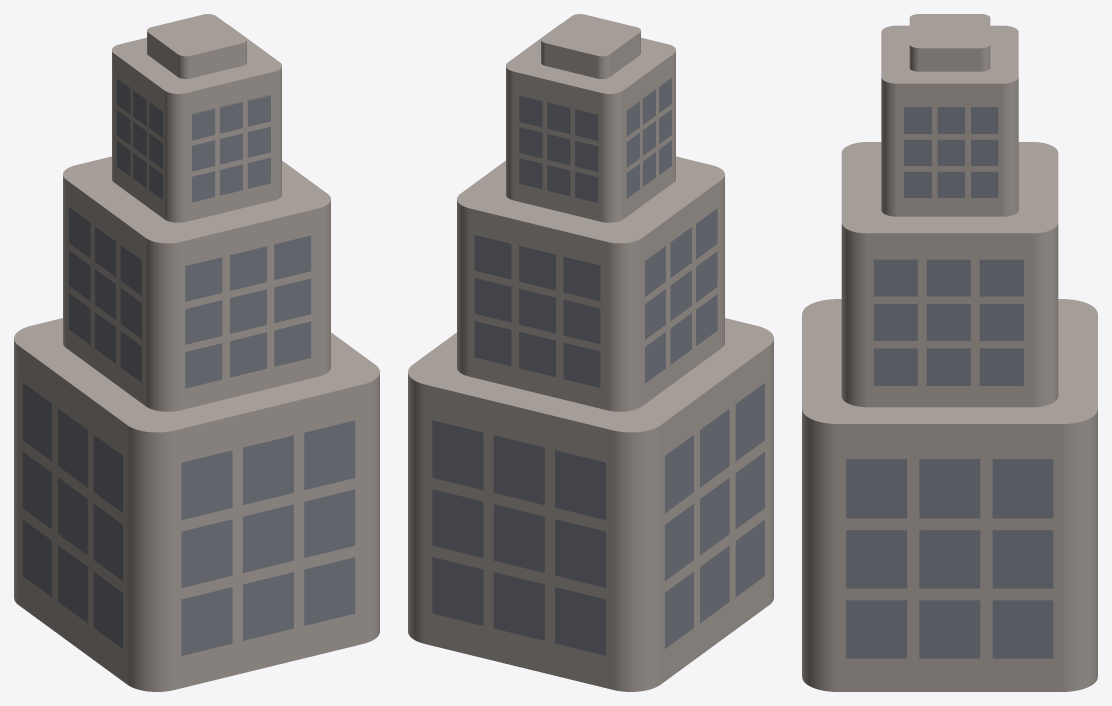
File: Building1.fbx
3 renders of one model, left to right at view 1: azimuth 30°, elevation 25°; view 2: azimuth 150°, elevation 25°; view 3: azimuth 270°, elevation 25°, orthographic. The views are drawn at different scales.
Visible parts, largest first — view 1: b1.001, b1.002, b1.003, b1.004; view 2: b1.001, b1.002, b1.003, b1.004; view 3: b1.001, b1.002, b1.003, b1.004.
Boxes of the visible parts, <box> form: b1.001: <box>14,318,379,691</box>; b1.002: <box>63,156,330,411</box>; b1.003: <box>112,24,281,222</box>; b1.004: <box>147,14,246,78</box>; b1.001: <box>408,318,773,691</box>; b1.002: <box>457,156,724,411</box>; b1.003: <box>506,24,675,222</box>; b1.004: <box>541,14,640,78</box>; b1.001: <box>802,299,1097,691</box>; b1.002: <box>841,142,1058,407</box>; b1.003: <box>881,25,1018,216</box>; b1.004: <box>909,14,990,71</box>.
Size of the model in its own units: 10 by 22.33 by 10.
